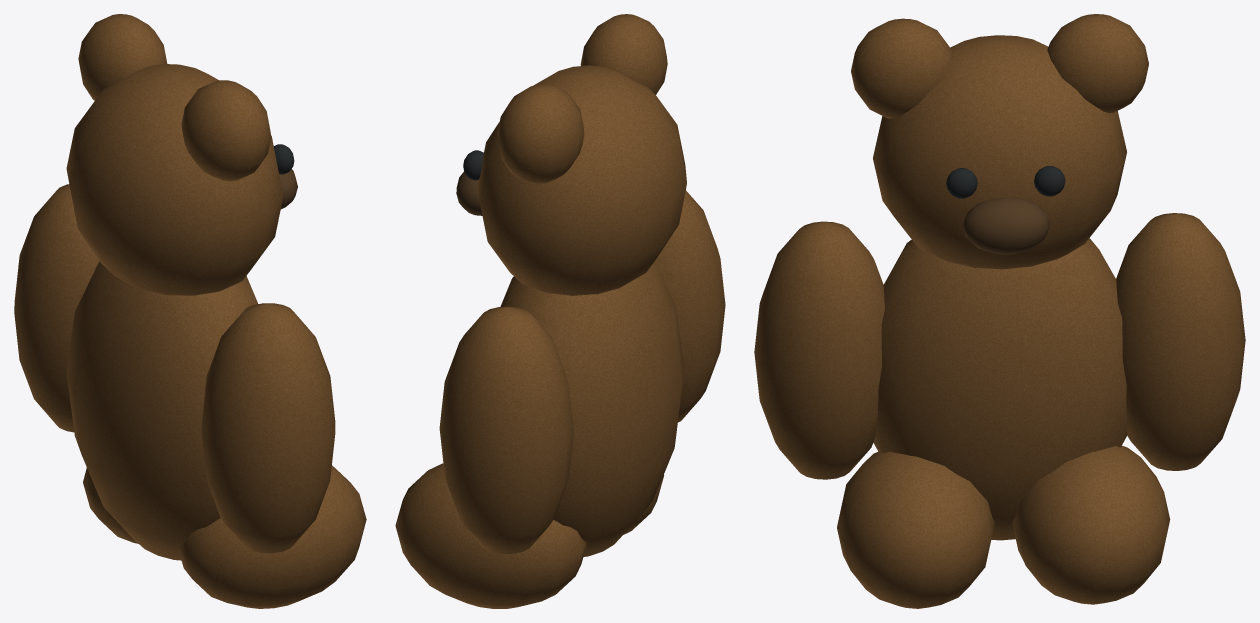
The model's file is SM_TeddyPrize_47f7ed5d89.fbx.
3 views of the same model, side by side, from view 1: azimuth 30°, elevation 25°; view 2: azimuth 150°, elevation 25°; view 3: azimuth 270°, elevation 25° (orthographic). The views are drawn at different scales.
Parts seen in each view (by area): view 1: SM_TeddyPrize_47f7ed5d89; view 2: SM_TeddyPrize_47f7ed5d89; view 3: SM_TeddyPrize_47f7ed5d89.
Part boxes in pixels (<box>): SM_TeddyPrize_47f7ed5d89: <box>14,14,366,608</box>; SM_TeddyPrize_47f7ed5d89: <box>395,14,725,608</box>; SM_TeddyPrize_47f7ed5d89: <box>754,14,1245,608</box>.
Size of what is drawn, in the model's own units: 28.82 by 51.12 by 63.09.
3 materials, 1 textured.
